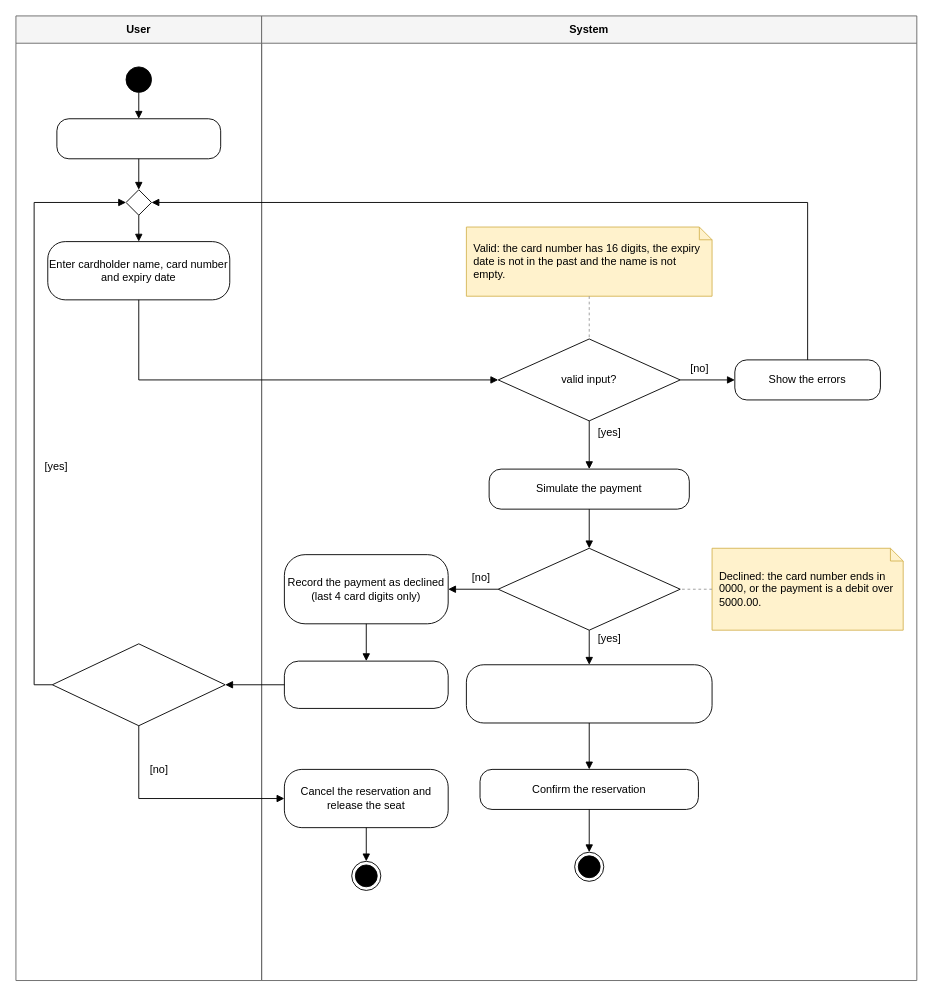
This 933x996 diagram has some shape labels left out. The centre of each missing label's shape, as x and y in pixels:
"approved?" goes at point (588, 588).
"Choose credit or debit" goes at point (138, 138).
"Record the payment as approved (last 4 card digits only)" goes at point (588, 693).
"retry payment?" goes at point (138, 684).
"Show the reason for the decline" goes at point (365, 684).
